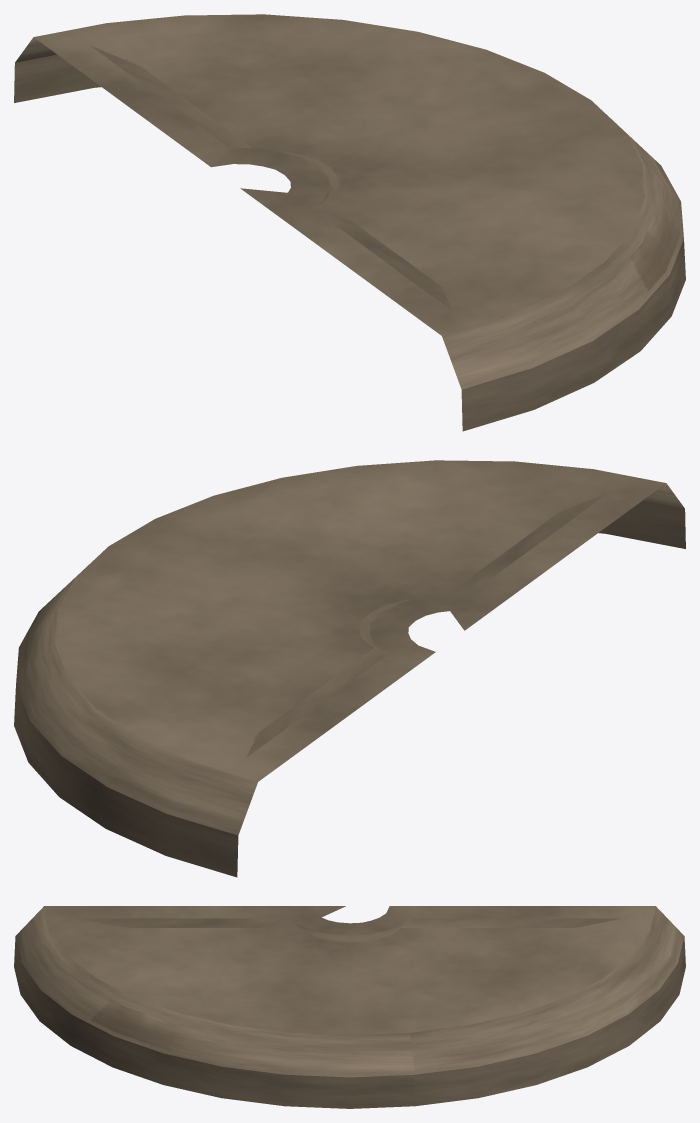
Rendered from keypad cover right.glb.
3 renders of one model, top to bottom at view 1: azimuth 30°, elevation 25°; view 2: azimuth 150°, elevation 25°; view 3: azimuth 270°, elevation 25°, orthographic. The views are drawn at different scales.
Visible parts, largest first — view 1: Keypad cover right; view 2: Keypad cover right; view 3: Keypad cover right.
Part boxes in pixels (left/top/right/bottom): Keypad cover right: left=14, top=14, right=685, bottom=431; Keypad cover right: left=14, top=460, right=685, bottom=877; Keypad cover right: left=14, top=906, right=685, bottom=1108.
Size of the model in its own units: 0.7344 by 0.146 by 1.47.
Materials: 1 (1 with a texture image).
